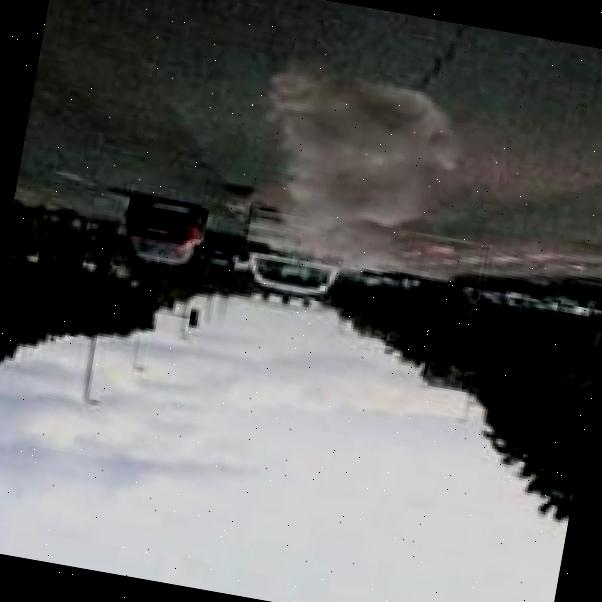smoke: (226, 49, 502, 301)
